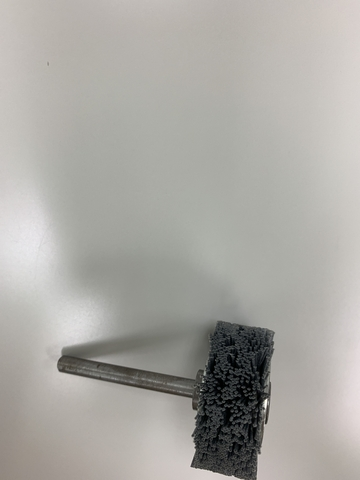Wheel Brush: (49, 314, 278, 480), (58, 327, 278, 470)
